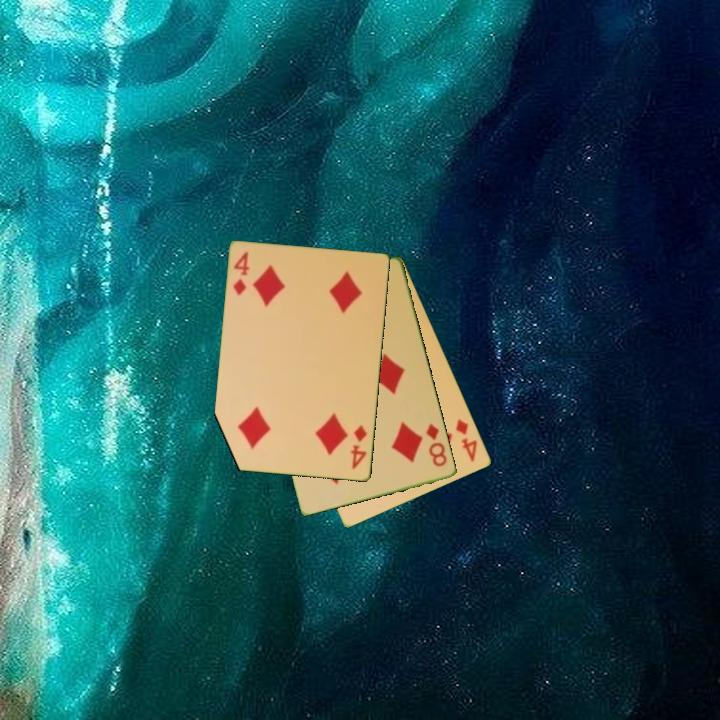4d: (452, 416, 481, 465), (230, 248, 253, 299), (348, 421, 370, 472)
8d: (423, 420, 450, 470)
